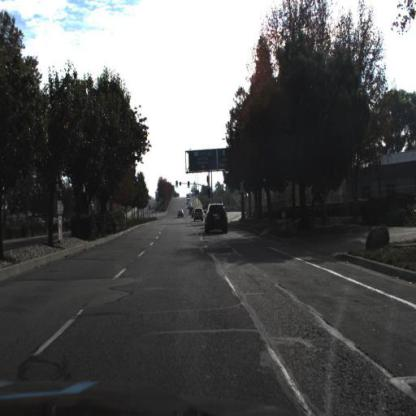car: (205, 203, 228, 235), (193, 203, 205, 226), (194, 208, 205, 223), (177, 209, 184, 221)
trafficLight-Green: (176, 180, 180, 189), (187, 181, 191, 189)
